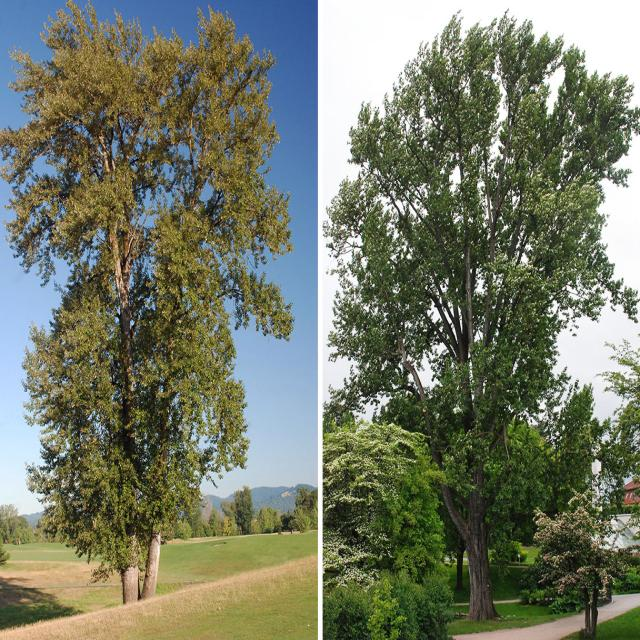Populus nigra: (320, 7, 634, 617), (0, 0, 295, 601)
